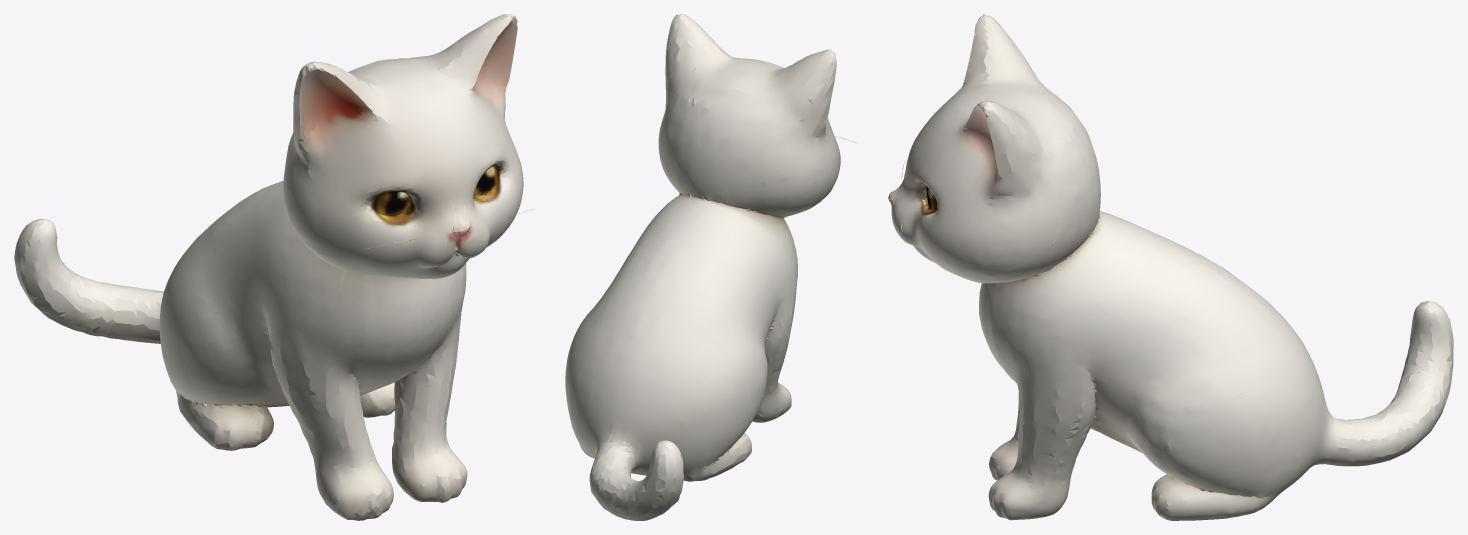
The model's file is blackcat.gltf.
3 renders of one model, left to right at view 1: azimuth 30°, elevation 25°; view 2: azimuth 150°, elevation 25°; view 3: azimuth 270°, elevation 25°, orthographic. The views are drawn at different scales.
Visible parts, largest first — view 1: BlackCat; view 2: BlackCat; view 3: BlackCat.
Boxes of the visible parts, x1=… form: BlackCat: x1=14, y1=14, x2=532, y2=520; BlackCat: x1=565, y1=14, x2=856, y2=520; BlackCat: x1=888, y1=14, x2=1453, y2=520.
Bounding box in the file's own units: 0.9287 × 1.62 × 1.9.
1 material, 1 textured.
